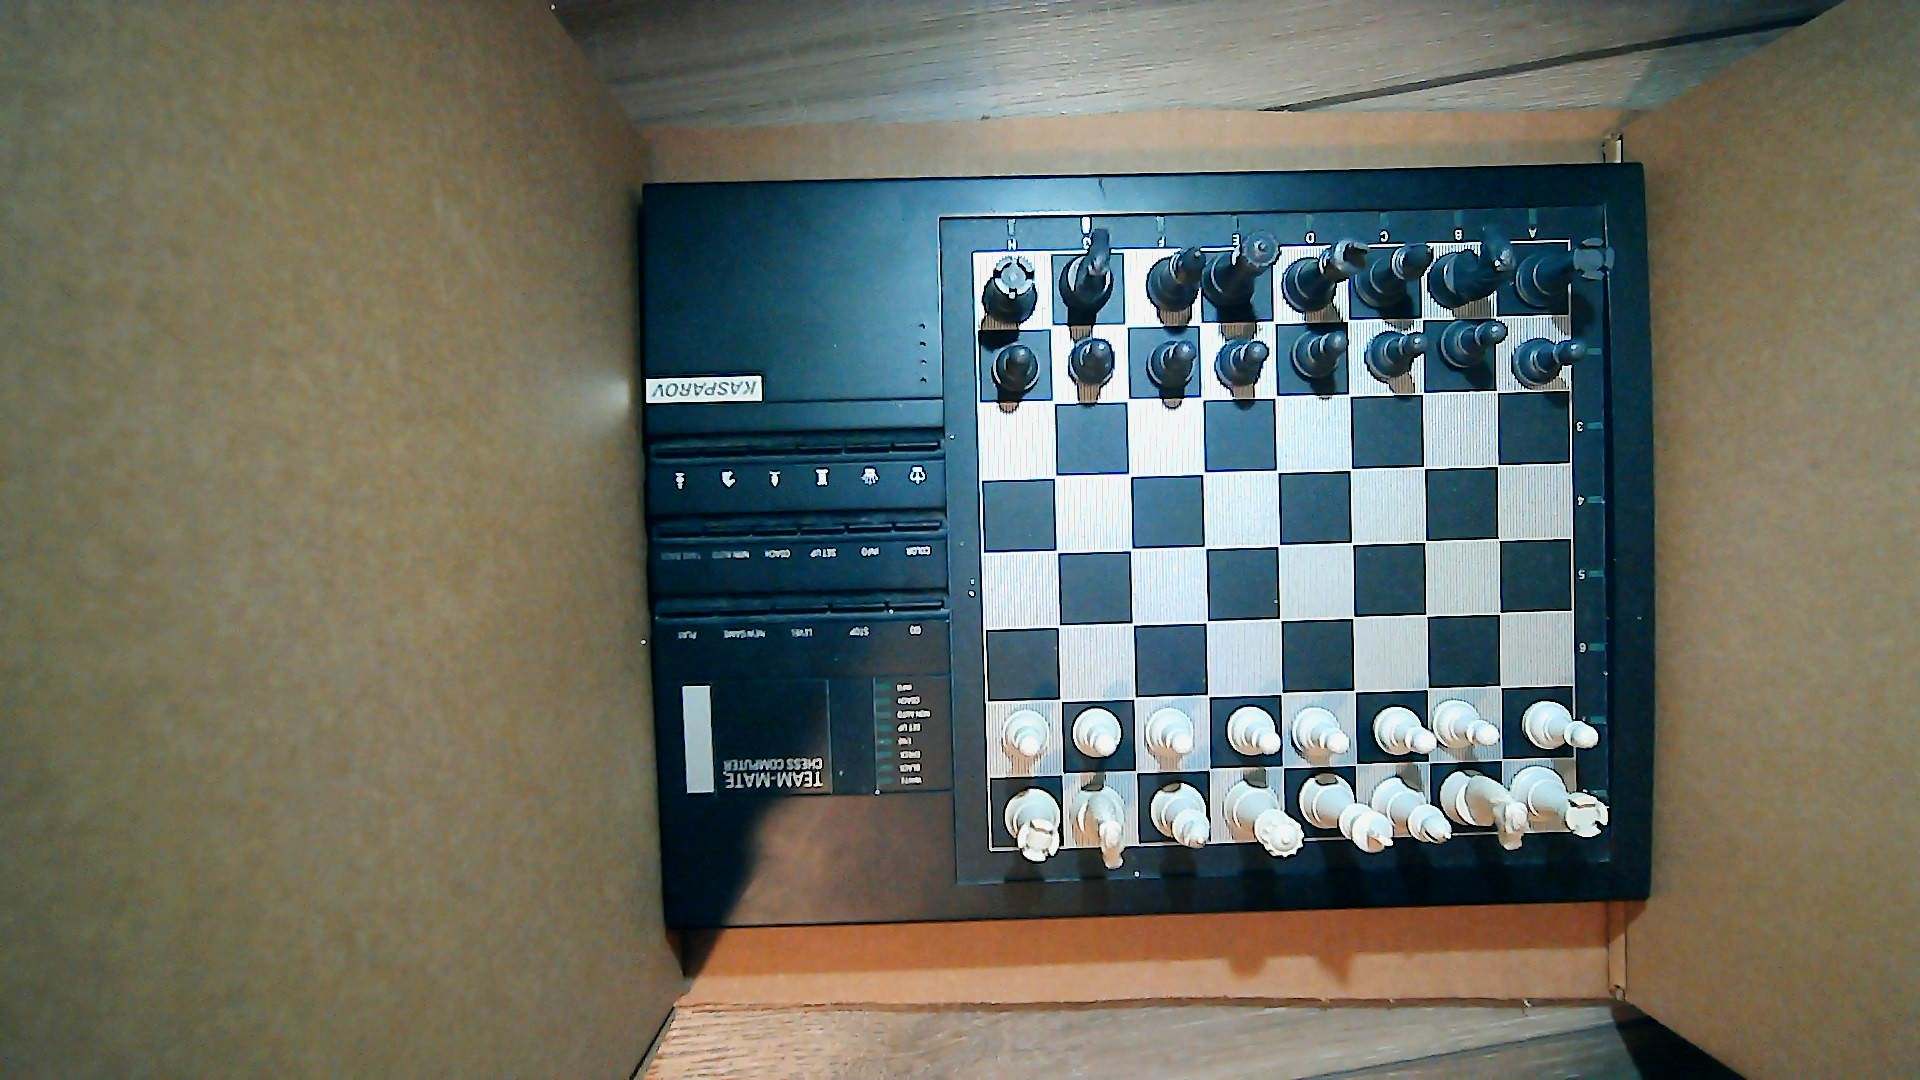bbishop: (1354, 237, 1433, 309), (1147, 244, 1207, 310)
bking: (1284, 236, 1367, 313)
bknight: (1425, 222, 1516, 309), (1059, 222, 1116, 314)
bpawn: (1439, 316, 1510, 371), (1511, 336, 1586, 386), (1364, 328, 1431, 381), (1290, 327, 1350, 378), (990, 342, 1042, 397), (1212, 338, 1269, 388), (1065, 336, 1117, 386), (1145, 340, 1197, 388)
bqueen: (1201, 229, 1280, 309)
brook: (1519, 235, 1615, 309), (978, 255, 1040, 322)
wbishop: (1371, 774, 1451, 845), (1151, 781, 1212, 851)
wking: (1298, 771, 1394, 853)
wknight: (1437, 765, 1524, 851), (1069, 783, 1127, 868)
wpawn: (1522, 698, 1598, 750), (1433, 699, 1501, 752), (1371, 705, 1437, 756), (1291, 705, 1352, 760), (1224, 703, 1280, 757), (1142, 707, 1197, 760), (1069, 707, 1124, 760), (998, 708, 1051, 761)
wqueen: (1222, 779, 1303, 858)
wrook: (1510, 765, 1611, 836), (1004, 789, 1065, 862)
